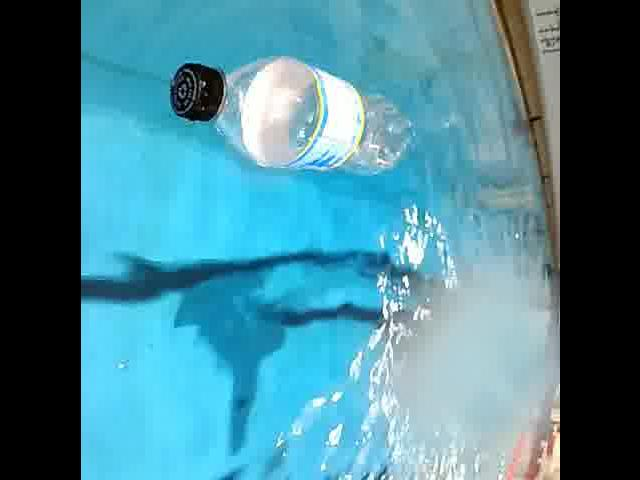Bottle: (154, 60, 428, 184)
